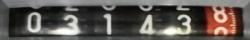digits: (62, 14, 80, 34), (139, 14, 155, 34), (176, 14, 190, 34), (27, 12, 41, 32), (212, 6, 228, 23), (103, 13, 112, 34)
